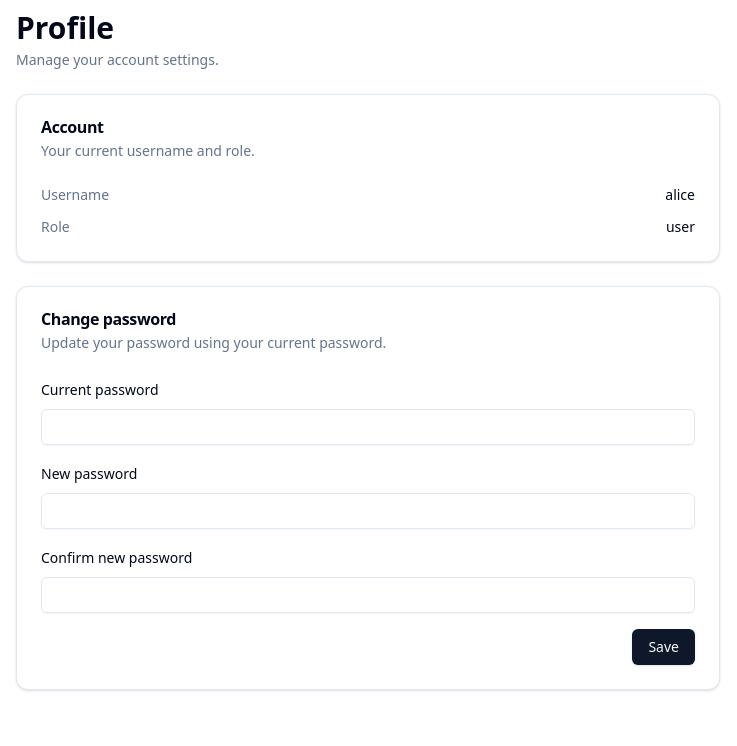
Test: ProfilePage › changes password successfully
In the password field labelled "Current password": {"x": 368, "y": 427} [41,409,695,445], type "CurrentPass1!"
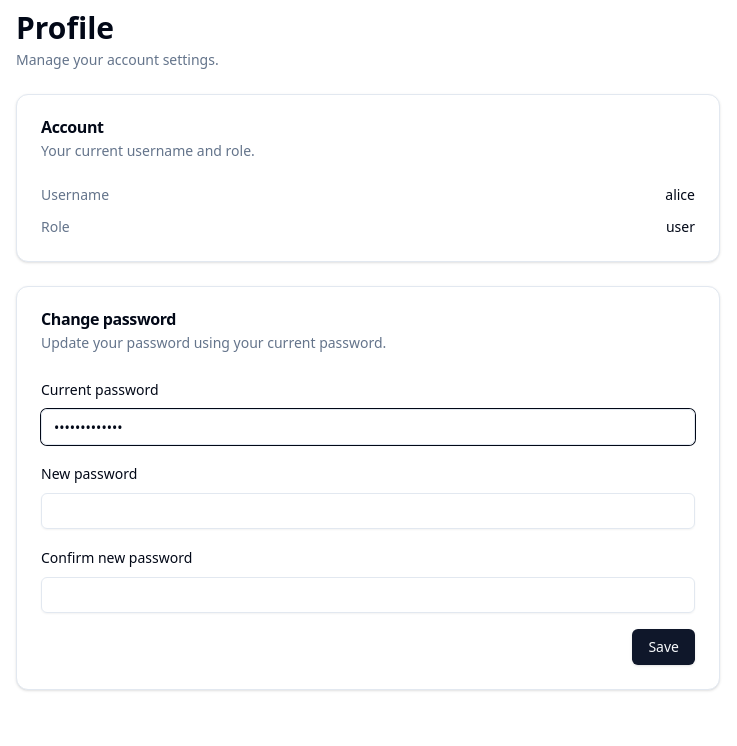
In the password field labelled "New password": {"x": 368, "y": 511} [41,493,695,529], type "StrongPass1!"
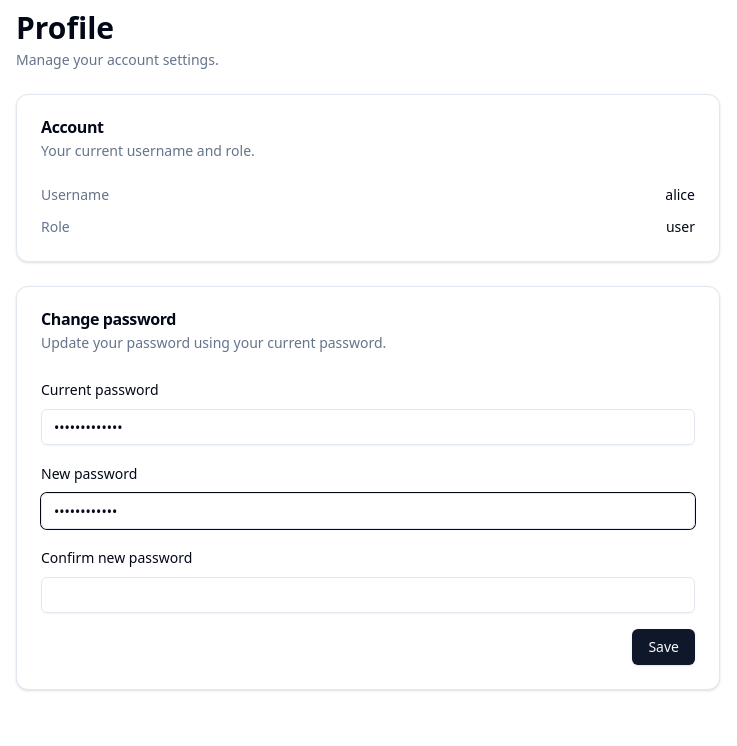
In the password field labelled "Confirm new password": {"x": 368, "y": 595} [41,577,695,613], type "StrongPass1!"
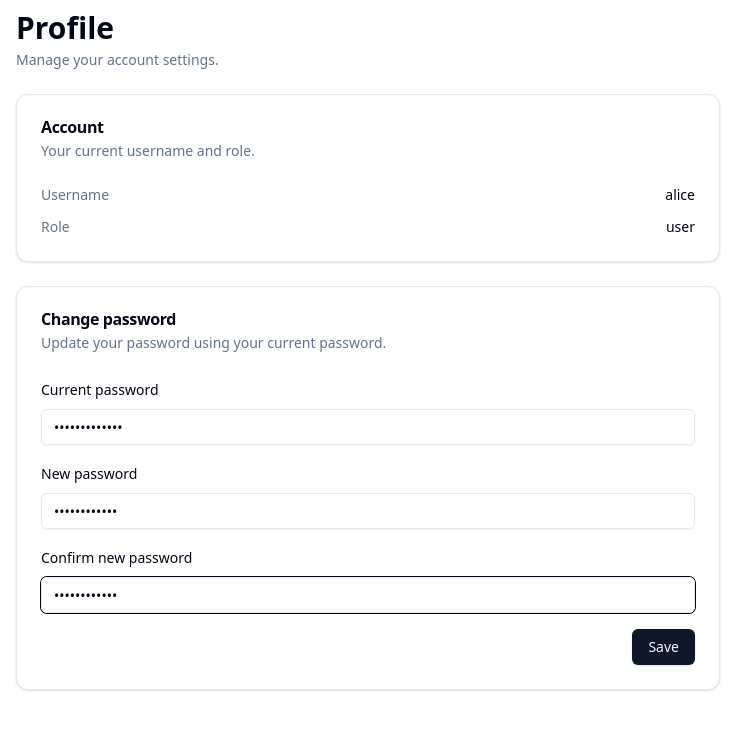
Click the button "Save": {"x": 664, "y": 647} [632,629,695,665]
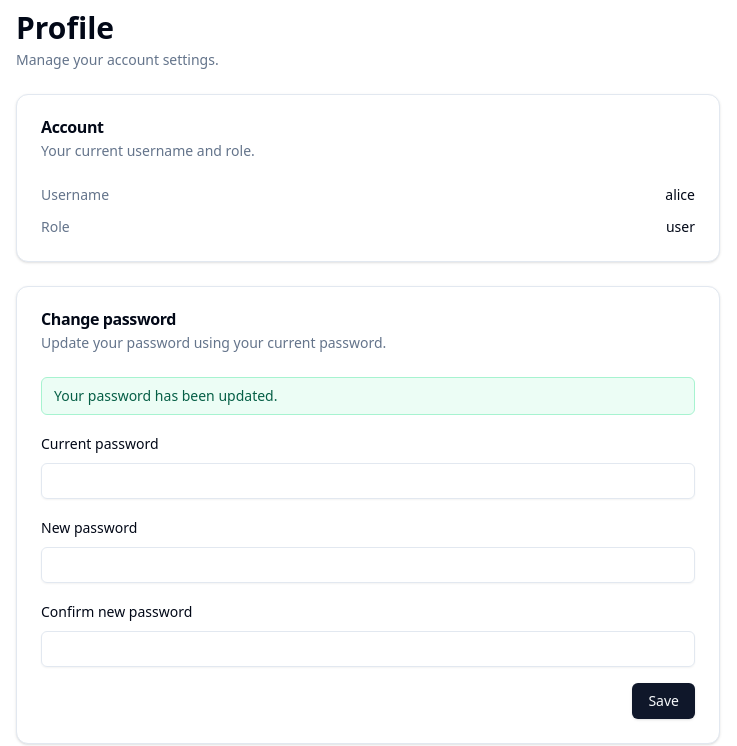
Check: the message reads "Your password has been updated.", box [54,386,278,405]
